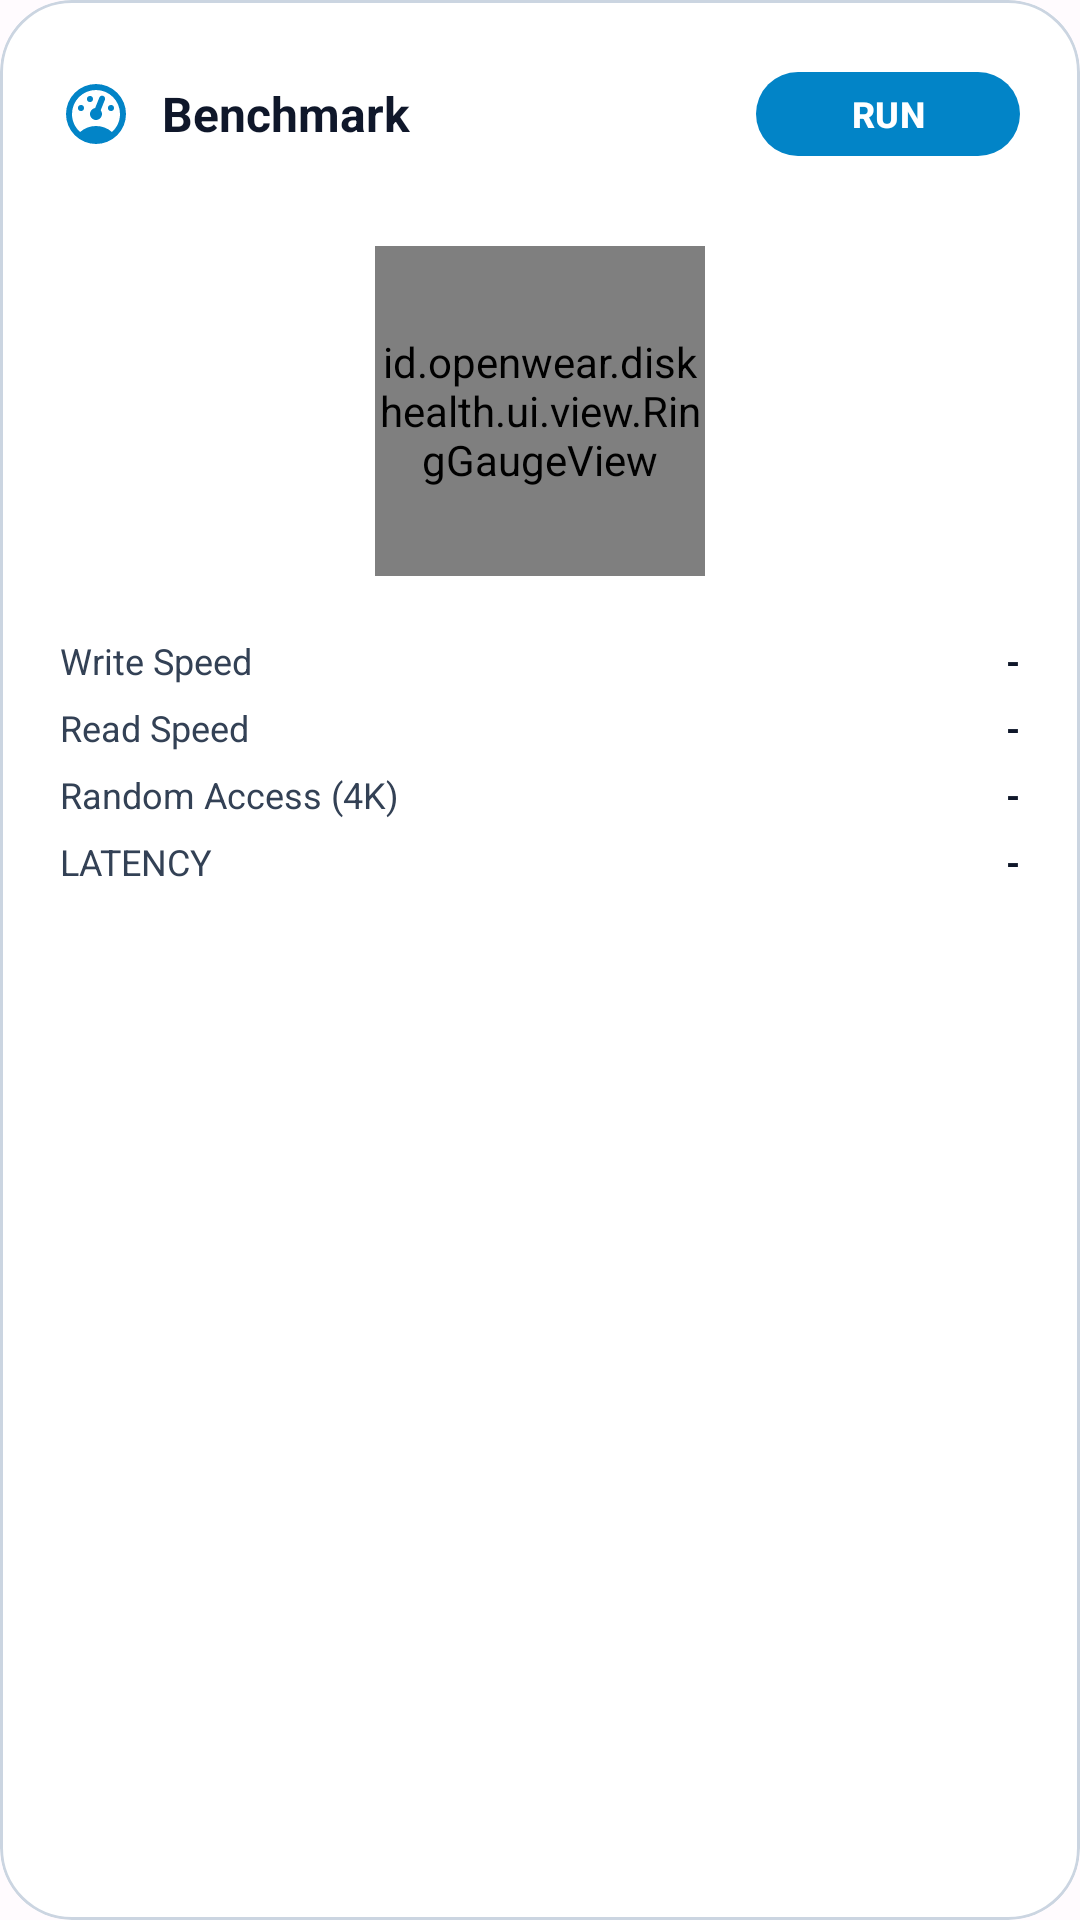

Locate icon controls on the screen. Image size 1080 x 1920, boxes as (x1, y1, x2, y2).
gauge: (66, 84, 126, 144)
